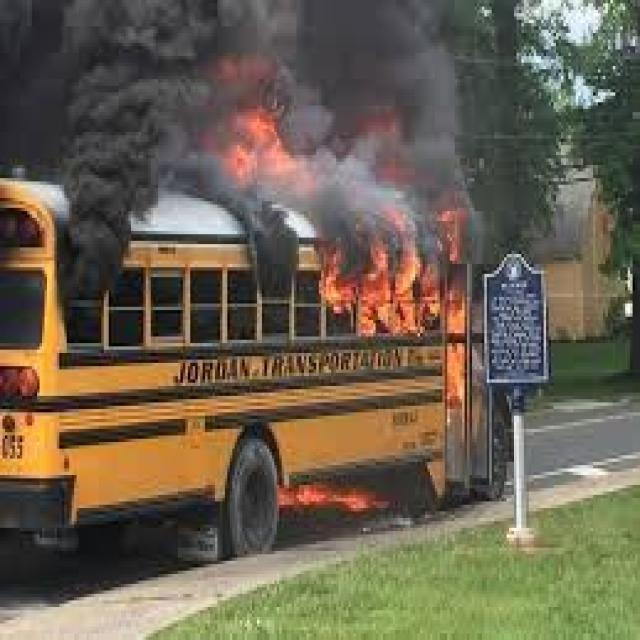Smoke: (0, 0, 457, 185)
